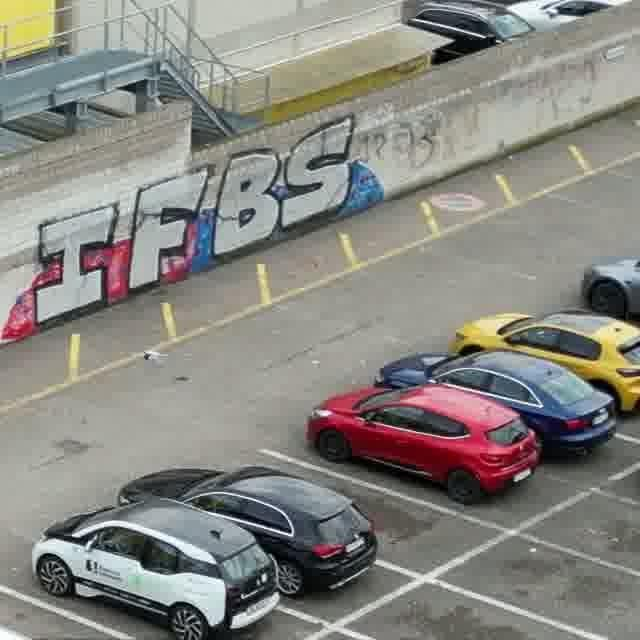Drohne: (142, 350, 165, 361)
